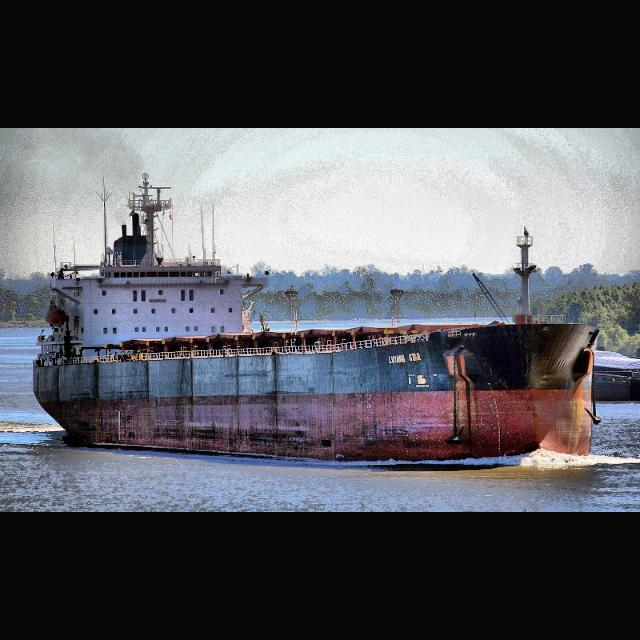bulk_carrier: (31, 170, 603, 466)
